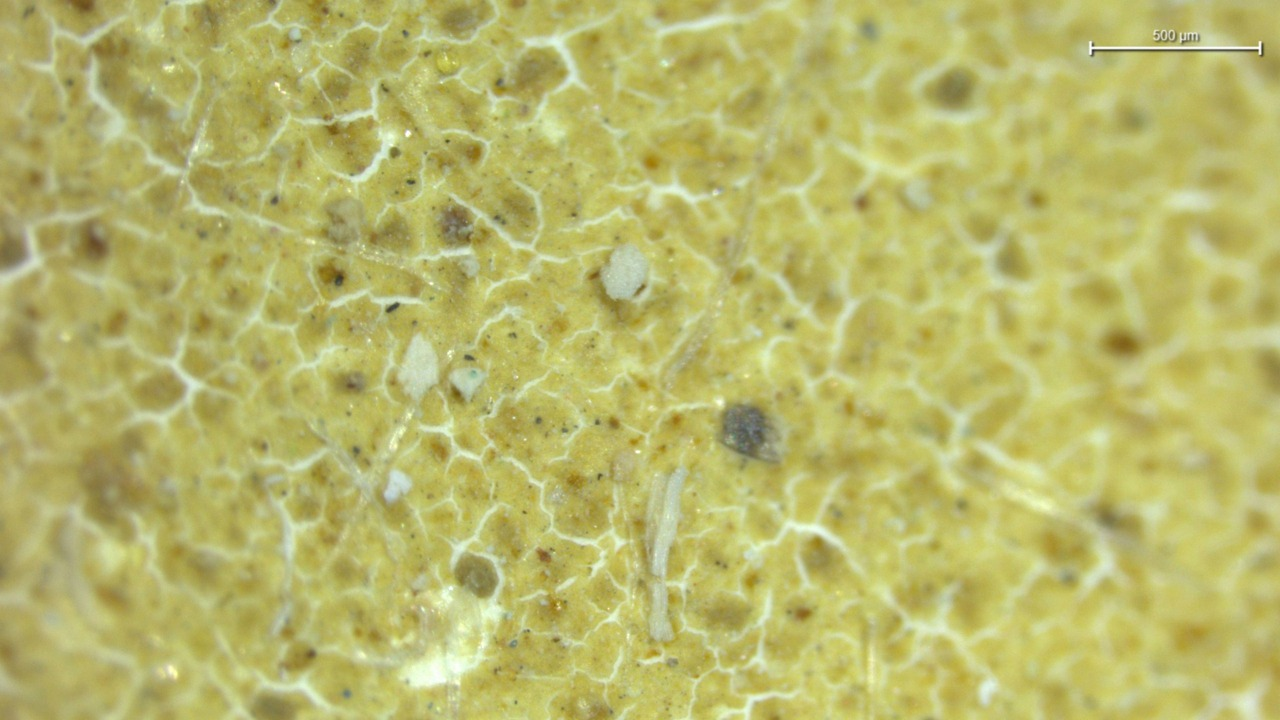microplastic_fragment: (600, 243, 648, 301), (449, 366, 488, 401)
